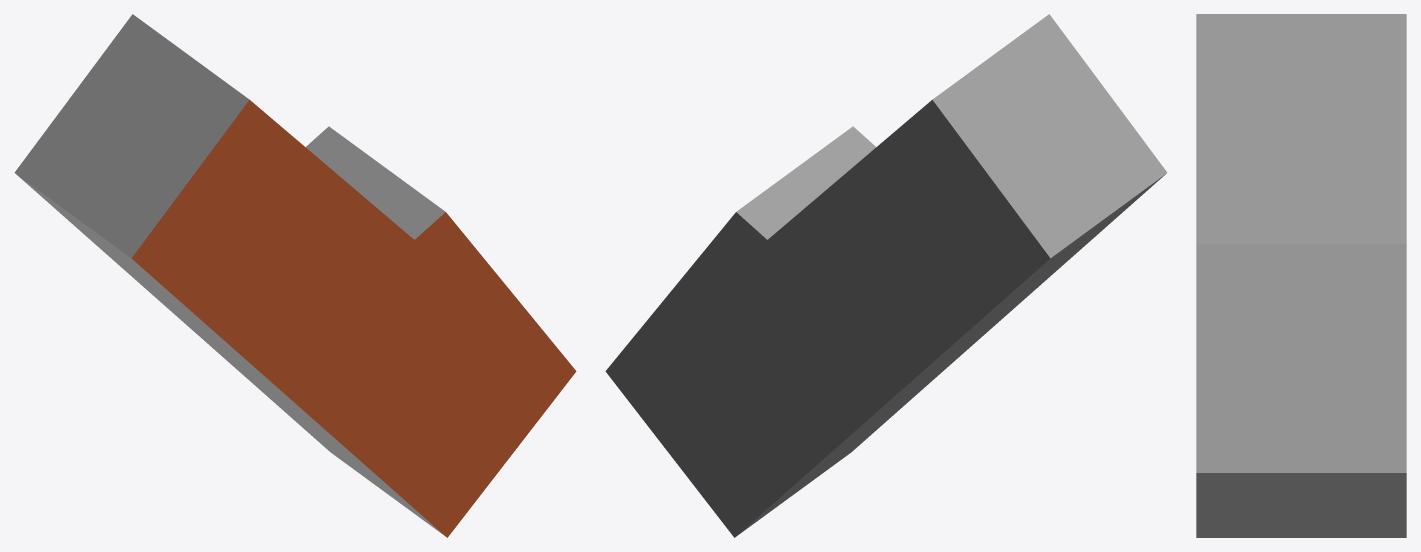
File: construction_7142_assumed_A_Ruinas_h6m.obj
The picture shows the model from 3 angles, left to right: view 1: azimuth 30°, elevation 25°; view 2: azimuth 150°, elevation 25°; view 3: azimuth 270°, elevation 25°; orthographic projection. The views are drawn at different scales.
Parts seen in each view (by area): view 1: construction_7142_assumed_A_Ruinas; view 2: construction_7142_assumed_A_Ruinas; view 3: construction_7142_assumed_A_Ruinas.
Part boxes in pixels (x1,y1,x2,y2): construction_7142_assumed_A_Ruinas: (14, 14, 576, 537); construction_7142_assumed_A_Ruinas: (605, 14, 1167, 537); construction_7142_assumed_A_Ruinas: (1196, 14, 1406, 537).
Size of the model in its own units: 13.18 by 13.77 by 6.
